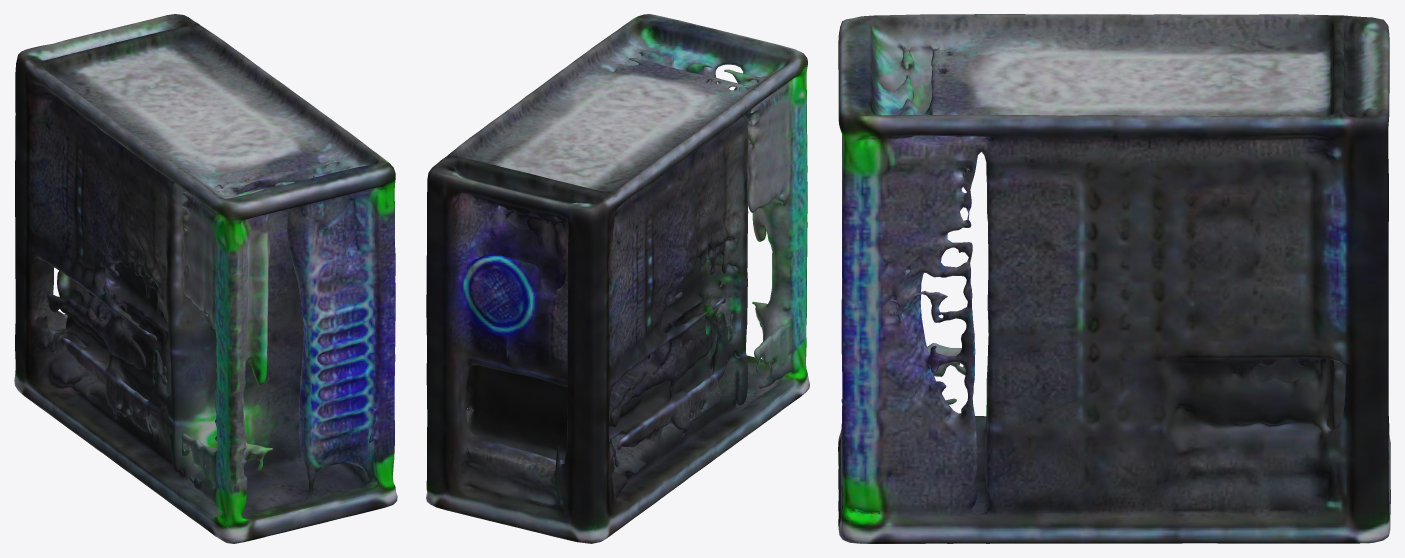
Rendered from 51f8dffe91ee_a_gaming_tower_case.fbx.
3 views of the same model, side by side, from view 1: azimuth 30°, elevation 25°; view 2: azimuth 150°, elevation 25°; view 3: azimuth 270°, elevation 25° (orthographic). The views are drawn at different scales.
Parts seen in each view (by area): view 1: high_poly; view 2: high_poly; view 3: high_poly.
Boxes of the visible parts, x1,y1,x2,y2 form: high_poly: [14, 14, 397, 543]; high_poly: [426, 14, 809, 543]; high_poly: [838, 14, 1390, 543].
Size of the model in its own units: 46.55 by 85.39 by 100.
